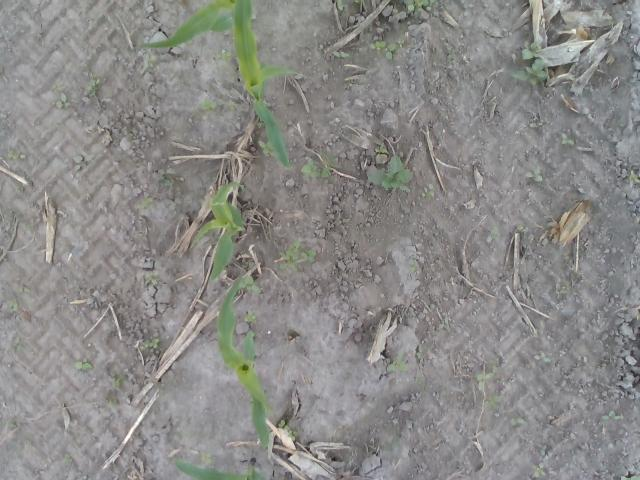Maize: (230, 0, 300, 171), (218, 279, 270, 451), (190, 180, 246, 282), (138, 0, 235, 53), (174, 457, 270, 480)
Weeds: (366, 153, 412, 195), (510, 39, 547, 89), (276, 239, 317, 272), (366, 38, 404, 66), (300, 150, 335, 178), (0, 288, 32, 315), (474, 358, 497, 390), (51, 82, 72, 112), (383, 350, 408, 375), (190, 96, 224, 114), (238, 276, 264, 294), (398, 0, 433, 13), (85, 70, 101, 98), (70, 357, 96, 374), (278, 418, 296, 440), (70, 154, 94, 170), (158, 168, 176, 188), (599, 408, 624, 422), (214, 48, 234, 65), (480, 394, 498, 411), (527, 169, 546, 185), (258, 139, 274, 156), (532, 351, 552, 364), (112, 372, 128, 388), (144, 272, 160, 288), (144, 53, 159, 70), (528, 463, 546, 477), (9, 339, 27, 353), (560, 132, 577, 146), (143, 336, 160, 350), (6, 149, 26, 160), (136, 198, 154, 210), (200, 450, 214, 465), (421, 184, 434, 200), (332, 50, 352, 60), (512, 416, 528, 428), (242, 312, 256, 325), (446, 48, 457, 64), (490, 223, 500, 240), (225, 99, 238, 112), (626, 173, 640, 184), (408, 255, 417, 272), (559, 283, 571, 295), (375, 144, 388, 155), (336, 0, 344, 13), (62, 454, 72, 464), (23, 222, 33, 232), (543, 215, 552, 224), (414, 350, 422, 360), (621, 476, 640, 480)
